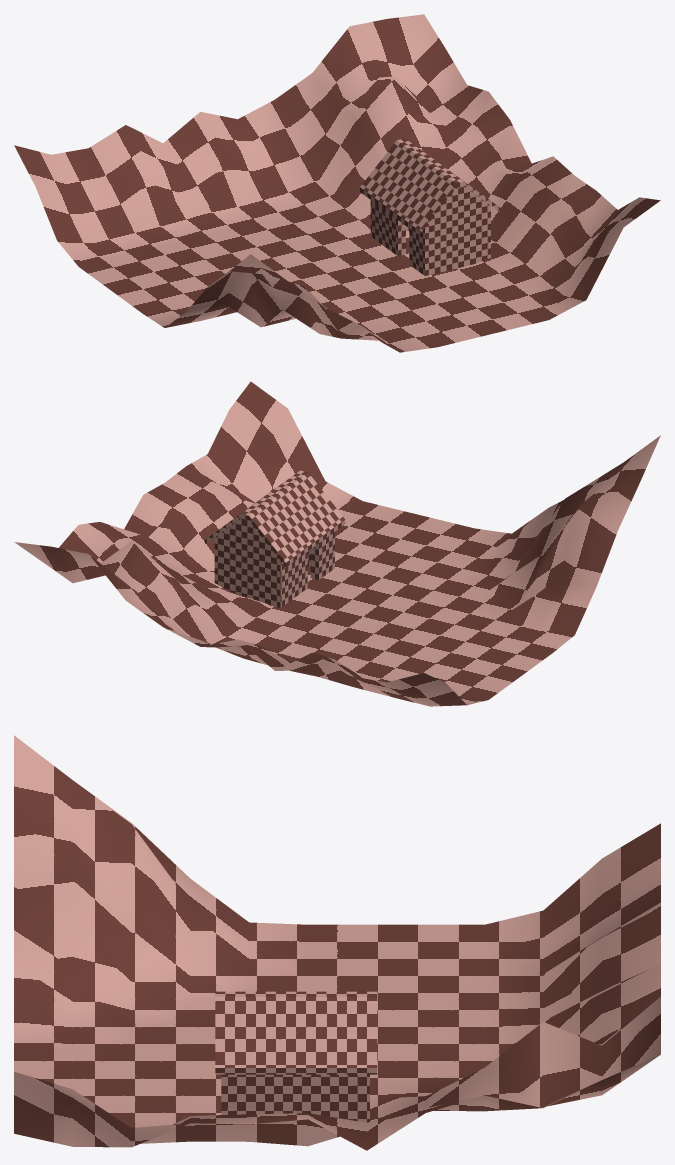
Rendered from newNewScene.gltf.
3 views of the same model, one above another, from view 1: azimuth 30°, elevation 25°; view 2: azimuth 150°, elevation 25°; view 3: azimuth 270°, elevation 25° (orthographic). The views are drawn at different scales.
Visible parts, largest first — view 1: Ground, House, roof; view 2: Ground, House, roof; view 3: Ground, roof, House.
Boxes of the visible parts, x1,y1,x2,y2 form: Ground: [14, 14, 660, 352]; House: [370, 186, 490, 275]; roof: [360, 138, 499, 234]; Ground: [14, 381, 660, 706]; House: [214, 519, 334, 607]; roof: [205, 470, 345, 567]; Ground: [14, 735, 660, 1150]; roof: [215, 991, 377, 1074]; House: [221, 1074, 369, 1122].
Bounding box in the file's own units: 100 × 32.34 × 100.
1 material, 1 textured.
